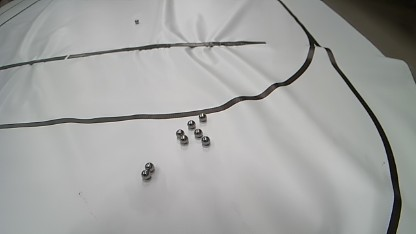ironball: (144, 162, 155, 173), (141, 169, 151, 180), (180, 134, 189, 145), (201, 135, 210, 146), (194, 128, 203, 138), (198, 113, 207, 122), (187, 120, 195, 130), (176, 129, 184, 138), (134, 19, 139, 24)
